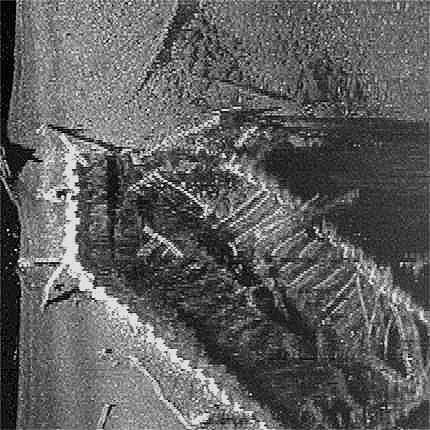ship: (31, 104, 430, 428)
